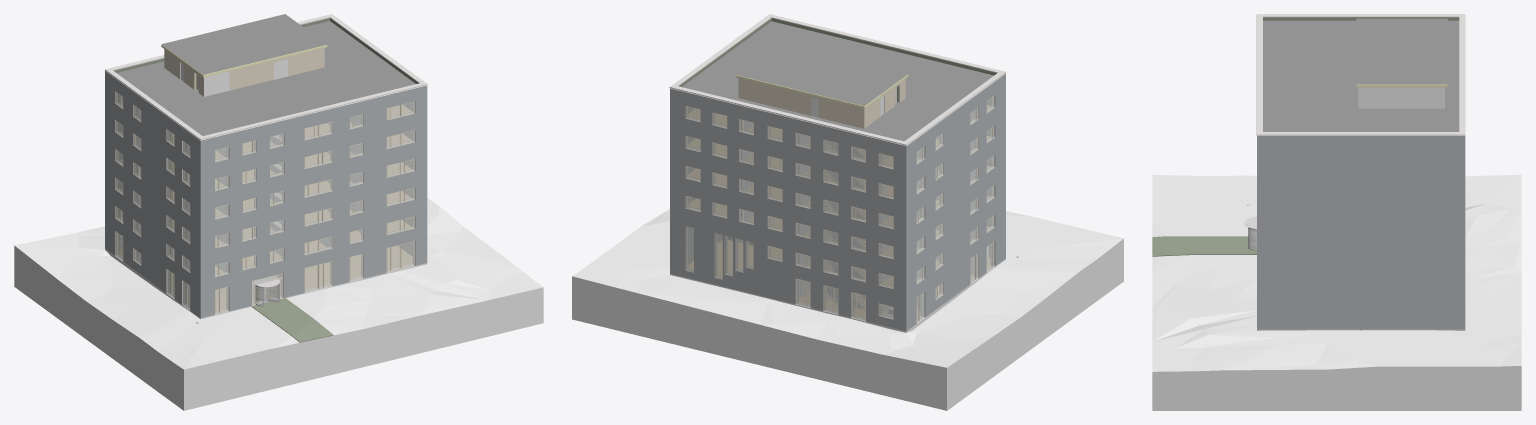
3 views of the same model, side by side, from view 1: azimuth 30°, elevation 25°; view 2: azimuth 150°, elevation 25°; view 3: azimuth 270°, elevation 25° (orthographic). The views are drawn at different scales.
Visible parts, largest first — view 1: 20FpTZCqJy2vhVJYtjuIce, 32ybGKDuykUGUD4jYsk8Ie, 3rMbhJVGF8OwG8cQZ1S72R, 3dMtr6ofFP_r4lxxKhDjtx, 31GoFlPlayZwrpzicZFjHM, 3Z2dx3yp2p0h1zd8qBrLsu, 2OZlAoNjc2kJuti7JBU1Dz, 1GUGhvBakY7jOi2BGD5Qmv, 3ctpXZK9k9n_dEy9Asp1f7, 1eou6h2MPUQ_8mModuxOLE, 2UtDOSQaQl4E2YqnE2UfB4, 3NDIvj5pHM7Rsyj6ihpQu6 (+15 smaller); view 2: 20FpTZCqJy2vhVJYtjuIce, 32ybGKDuykUGUD4jYsk8Ie, 3QipThjn2CLI6iTaD_53At, 0Nla6I89LXyQnRX9MUdA5X, 1NGtvcfxq37$wkFrdBOsEg, 13GXFeUOgKNsPM6USzE6uv, 1p$U1Hbv9vPYxtgE8hYq50, 1GUGhvBakY7jOi2BGD5Qmv, 0$N1zEdv8l58ubpGRcOAve, 1eou6h2MPUQ_8mModuxOLE, 0UYzApClyi16g1Kg4G_CkU, 2UtDOSQaQl4E2YqnE2UfB4 (+11 smaller); view 3: 20FpTZCqJy2vhVJYtjuIce, 32ybGKDuykUGUD4jYsk8Ie, 2oxTdAOFu6tU1Ww$gO3M5H, 3aJPXfznSpSllxBuKdSQgc, 0lF1JNXCZRzvAhRKaOzneb, 3pV62$rsXEB4maDIG5626S, 3KGWTAaBtbLUrXw8Kggjup, 0_KsYzeGoQsH5hvVwI3pxF, 1GUGhvBakY7jOi2BGD5Qmv, 28kvLrR_NQM_ChD9afdeln, 358ewIswf3A97YK6GX7ET5, 1AZjLPECP64xP7ZuESueMo (+4 smaller).
Part boxes in pixels (x1,y1,x2,y2): 20FpTZCqJy2vhVJYtjuIce: [14, 197, 543, 410]; 32ybGKDuykUGUD4jYsk8Ie: [117, 21, 415, 135]; 3rMbhJVGF8OwG8cQZ1S72R: [200, 85, 427, 173]; 3dMtr6ofFP_r4lxxKhDjtx: [200, 147, 427, 231]; 31GoFlPlayZwrpzicZFjHM: [200, 205, 427, 289]; 3Z2dx3yp2p0h1zd8qBrLsu: [200, 118, 427, 202]; 2OZlAoNjc2kJuti7JBU1Dz: [200, 176, 427, 260]; 1GUGhvBakY7jOi2BGD5Qmv: [161, 14, 326, 74]; 3ctpXZK9k9n_dEy9Asp1f7: [200, 234, 427, 318]; 1eou6h2MPUQ_8mModuxOLE: [105, 71, 200, 172]; 2UtDOSQaQl4E2YqnE2UfB4: [105, 162, 200, 259]; 3NDIvj5pHM7Rsyj6ihpQu6: [105, 133, 200, 230]; 20FpTZCqJy2vhVJYtjuIce: [572, 208, 1123, 410]; 32ybGKDuykUGUD4jYsk8Ie: [682, 21, 993, 141]; 3QipThjn2CLI6iTaD_53At: [670, 88, 906, 180]; 0Nla6I89LXyQnRX9MUdA5X: [670, 153, 906, 240]; 1NGtvcfxq37$wkFrdBOsEg: [670, 183, 906, 270]; 13GXFeUOgKNsPM6USzE6uv: [670, 123, 906, 210]; 1p$U1Hbv9vPYxtgE8hYq50: [670, 213, 906, 300]; 1GUGhvBakY7jOi2BGD5Qmv: [736, 42, 907, 105]; 0$N1zEdv8l58ubpGRcOAve: [670, 244, 906, 331]; 1eou6h2MPUQ_8mModuxOLE: [907, 74, 1005, 179]; 0UYzApClyi16g1Kg4G_CkU: [907, 198, 1005, 300]; 2UtDOSQaQl4E2YqnE2UfB4: [907, 168, 1005, 270]; 20FpTZCqJy2vhVJYtjuIce: [1152, 174, 1521, 410]; 32ybGKDuykUGUD4jYsk8Ie: [1263, 20, 1459, 131]; 2oxTdAOFu6tU1Ww$gO3M5H: [1258, 136, 1464, 171]; 3aJPXfznSpSllxBuKdSQgc: [1258, 171, 1465, 203]; 0lF1JNXCZRzvAhRKaOzneb: [1258, 203, 1465, 234]; 3pV62$rsXEB4maDIG5626S: [1258, 298, 1465, 329]; 3KGWTAaBtbLUrXw8Kggjup: [1258, 266, 1465, 297]; 0_KsYzeGoQsH5hvVwI3pxF: [1258, 235, 1465, 266]; 1GUGhvBakY7jOi2BGD5Qmv: [1356, 18, 1447, 84]; 28kvLrR_NQM_ChD9afdeln: [1358, 87, 1444, 108]; 358ewIswf3A97YK6GX7ET5: [1256, 14, 1262, 135]; 1AZjLPECP64xP7ZuESueMo: [1459, 14, 1465, 135].
Size of the model in its own units: 45.46 by 28.98 by 37.13.
